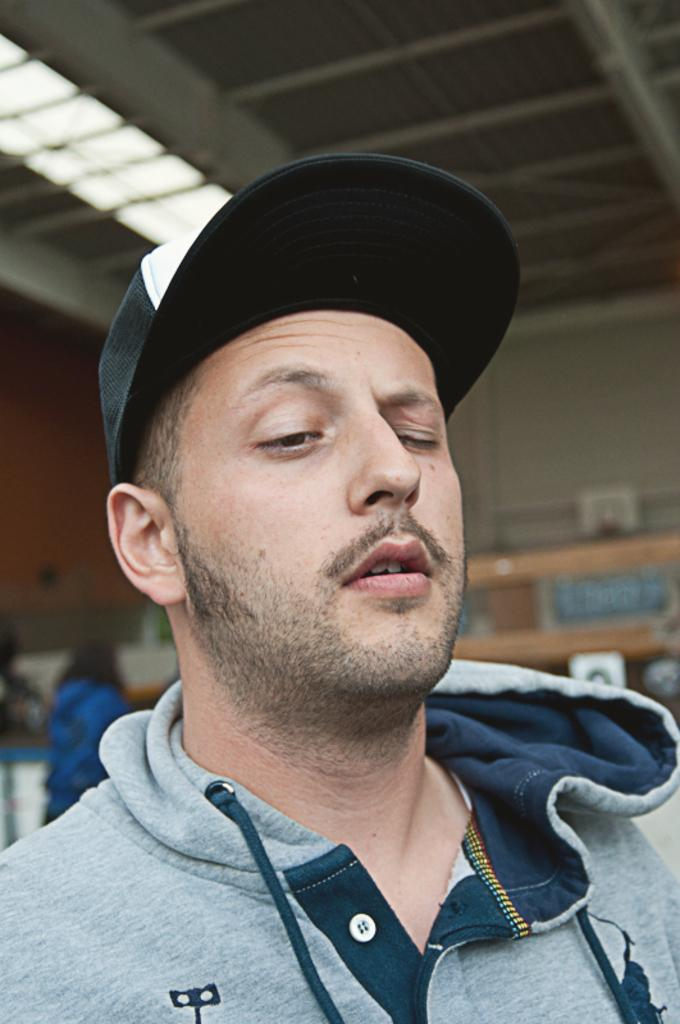Hat: (97, 146, 520, 490)
